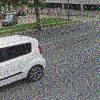cars: (0, 33, 46, 89)
